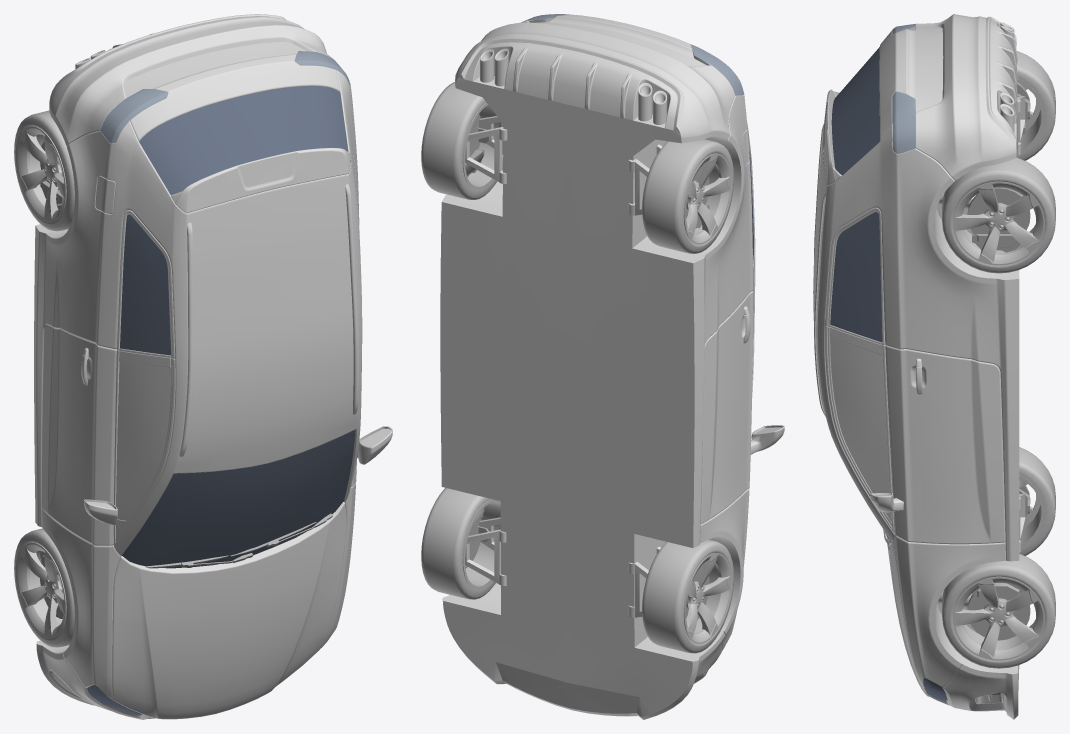
Rendered from RealisticCar03_HD_Exterior_LOD0.fbx.
The picture shows the model from 3 angles, left to right: view 1: azimuth 30°, elevation 25°; view 2: azimuth 150°, elevation 25°; view 3: azimuth 270°, elevation 25°; orthographic projection. The views are drawn at different scales.
Visible parts, largest first — view 1: Car03_Body_LOD0, Car03_Glass_LOD0, Car03_Door_Right_LOD0, Car03_Wheel_BackRight_LOD0, Car03_Wheel_FrontRight_LOD0, Car03_TailllightGlass_LOD0, Car03_Door_Left_LOD0; view 2: Car03_Body_LOD0, Car03_Door_Right_LOD0, Car03_Wheel_BackRight_LOD0, Car03_Wheel_FrontRight_LOD0, Car03_Wheel_FrontLeft_LOD0, Car03_Wheel_BackLeft_LOD0, Car03_TailllightGlass_LOD0; view 3: Car03_Body_LOD0, Car03_Door_Left_LOD0, Car03_Glass_LOD0, Car03_Wheel_FrontLeft_LOD0, Car03_Wheel_BackLeft_LOD0, Car03_Wheel_BackRight_LOD0, Car03_Wheel_FrontRight_LOD0, Car03_TailllightGlass_LOD0, Car03_BrakeDisc_BackLeft_LOD0, Car03_BrakeDisc_FrontLeft_LOD0, Car03_BrakeCaliper_BackLeft_LOD0, Car03_BrakeCaliper_FrontLeft_LOD0.
Boxes of the visible parts, x1,y1,x2,y2 form: Car03_Body_LOD0: [34, 14, 362, 719]; Car03_Glass_LOD0: [87, 86, 355, 715]; Car03_Door_Right_LOD0: [41, 324, 175, 545]; Car03_Wheel_BackRight_LOD0: [14, 110, 74, 231]; Car03_Wheel_FrontRight_LOD0: [14, 528, 74, 647]; Car03_TailllightGlass_LOD0: [100, 51, 350, 143]; Car03_Door_Left_LOD0: [351, 317, 392, 486]; Car03_Body_LOD0: [440, 14, 755, 719]; Car03_Door_Right_LOD0: [700, 249, 784, 523]; Car03_Wheel_BackRight_LOD0: [642, 139, 734, 253]; Car03_Wheel_FrontRight_LOD0: [642, 539, 734, 653]; Car03_Wheel_FrontLeft_LOD0: [421, 488, 500, 599]; Car03_Wheel_BackLeft_LOD0: [421, 82, 503, 199]; Car03_TailllightGlass_LOD0: [522, 14, 744, 95]; Car03_Body_LOD0: [813, 14, 1025, 719]; Car03_Door_Left_LOD0: [825, 326, 1005, 544]; Car03_Glass_LOD0: [830, 47, 947, 702]; Car03_Wheel_FrontLeft_LOD0: [942, 553, 1055, 668]; Car03_Wheel_BackLeft_LOD0: [942, 157, 1055, 273]; Car03_Wheel_BackRight_LOD0: [1016, 51, 1055, 160]; Car03_Wheel_FrontRight_LOD0: [1019, 447, 1055, 555]; Car03_TailllightGlass_LOD0: [892, 24, 915, 153]; Car03_BrakeDisc_BackLeft_LOD0: [967, 187, 1030, 234]; Car03_BrakeDisc_FrontLeft_LOD0: [967, 594, 1030, 640]; Car03_BrakeCaliper_BackLeft_LOD0: [972, 221, 1029, 252]; Car03_BrakeCaliper_FrontLeft_LOD0: [972, 583, 1022, 597].
Size of the model in its own units: 2.03 by 4.36 by 1.48.
